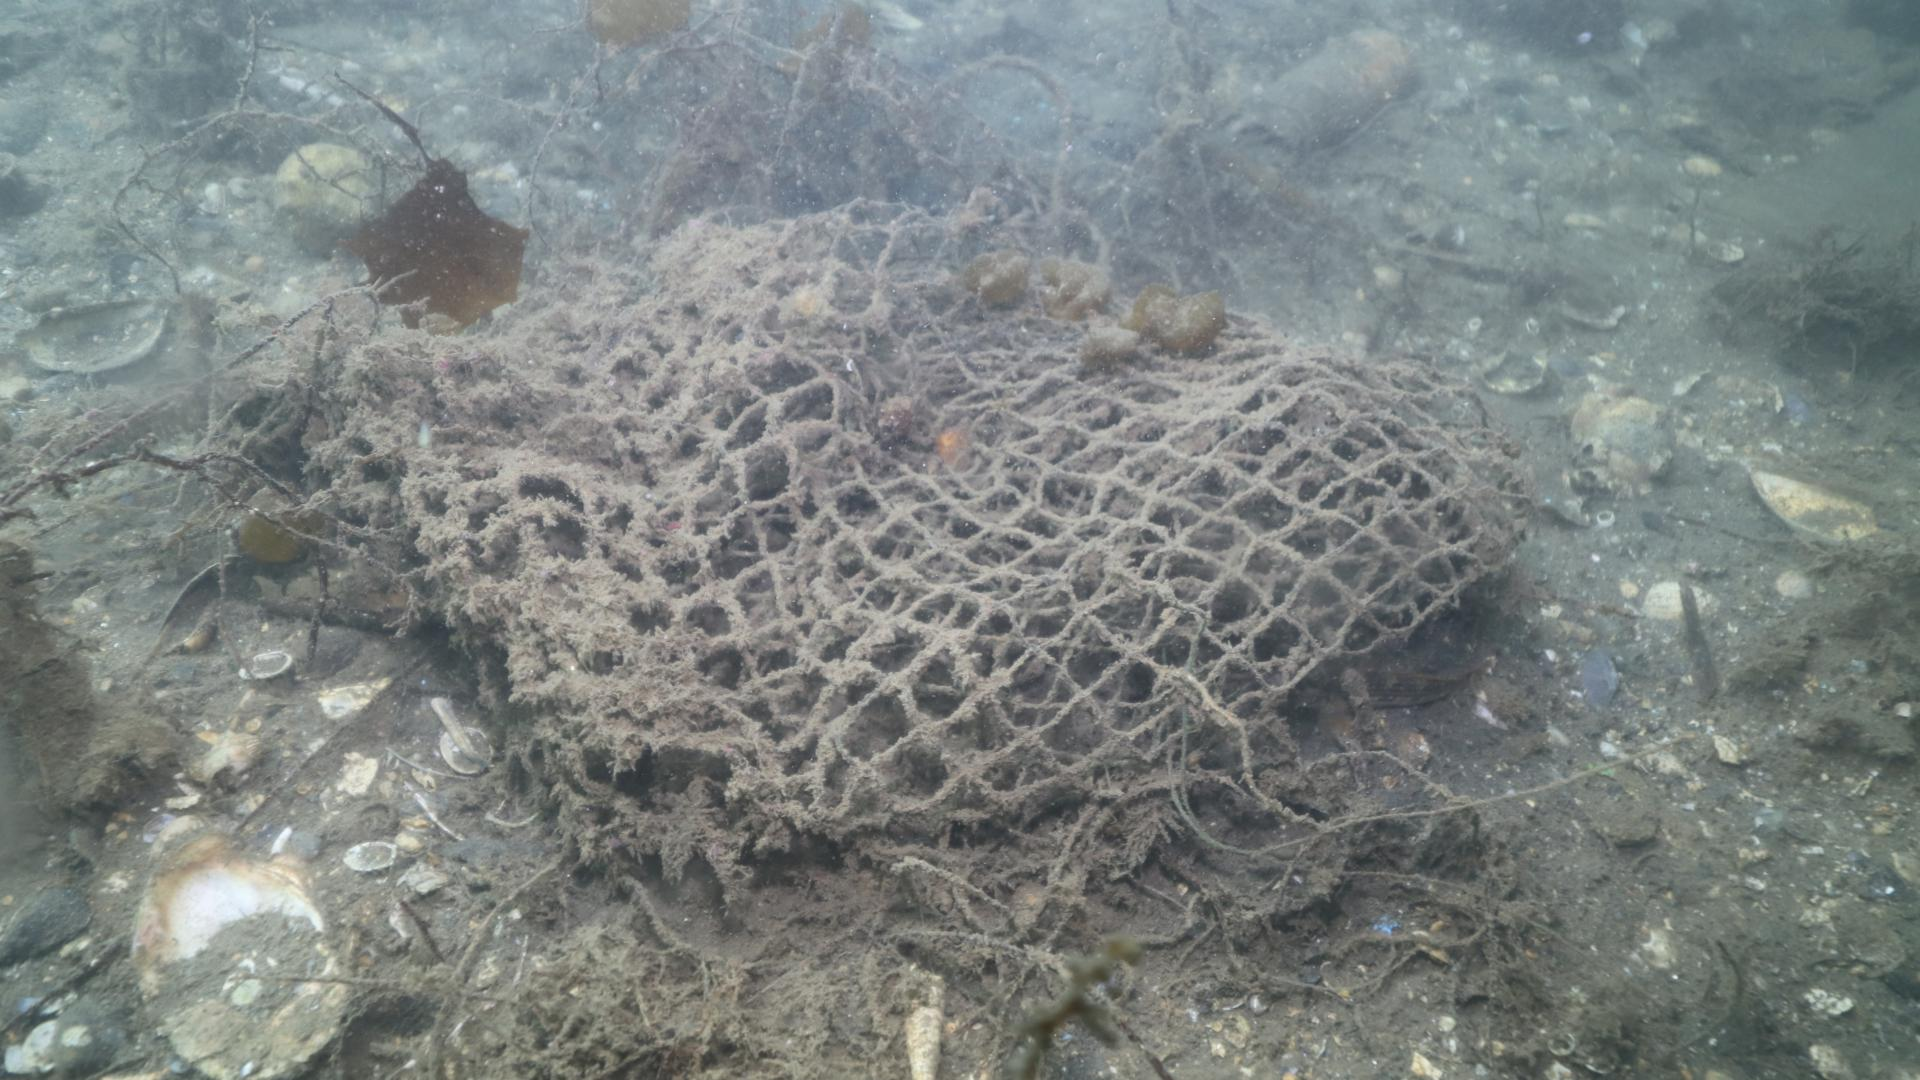fish net: (334, 194, 1524, 825)
